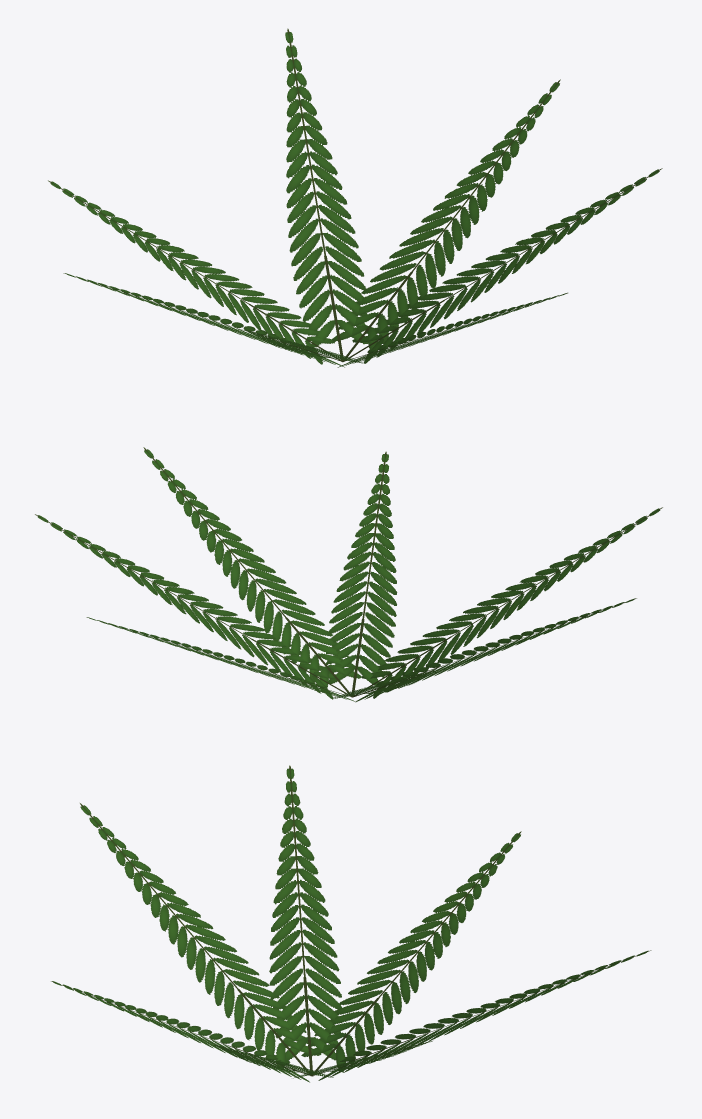
File: SM_Art_Veg_Fern_0.gltf
3 renders of one model, top to bottom at view 1: azimuth 30°, elevation 25°; view 2: azimuth 150°, elevation 25°; view 3: azimuth 270°, elevation 25°, orthographic. The views are drawn at different scales.
Parts seen in each view (by area): view 1: SM_Art_Veg_Fern_0; view 2: SM_Art_Veg_Fern_0; view 3: SM_Art_Veg_Fern_0.
Boxes of the visible parts, x1=… form: SM_Art_Veg_Fern_0: x1=48, y1=28, x2=662, y2=367; SM_Art_Veg_Fern_0: x1=35, y1=447, x2=662, y2=702; SM_Art_Veg_Fern_0: x1=51, y1=765, x2=651, y2=1082.
Size of the model in its own units: 2.13 by 0.6208 by 2.03.
Materials: 1 (1 with a texture image).
